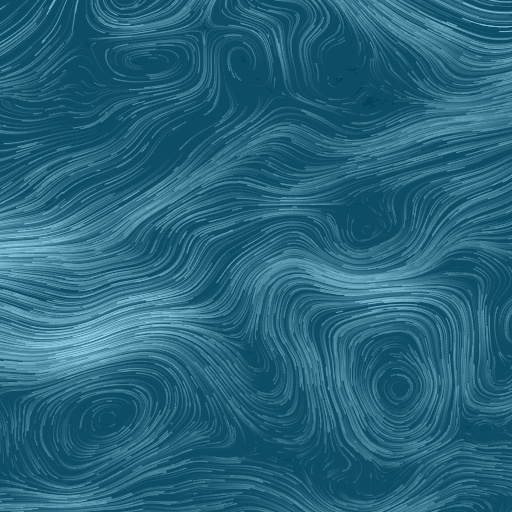eddy: (332, 310, 450, 451), (57, 381, 156, 456), (99, 30, 205, 85), (217, 28, 277, 92), (349, 210, 388, 244)
